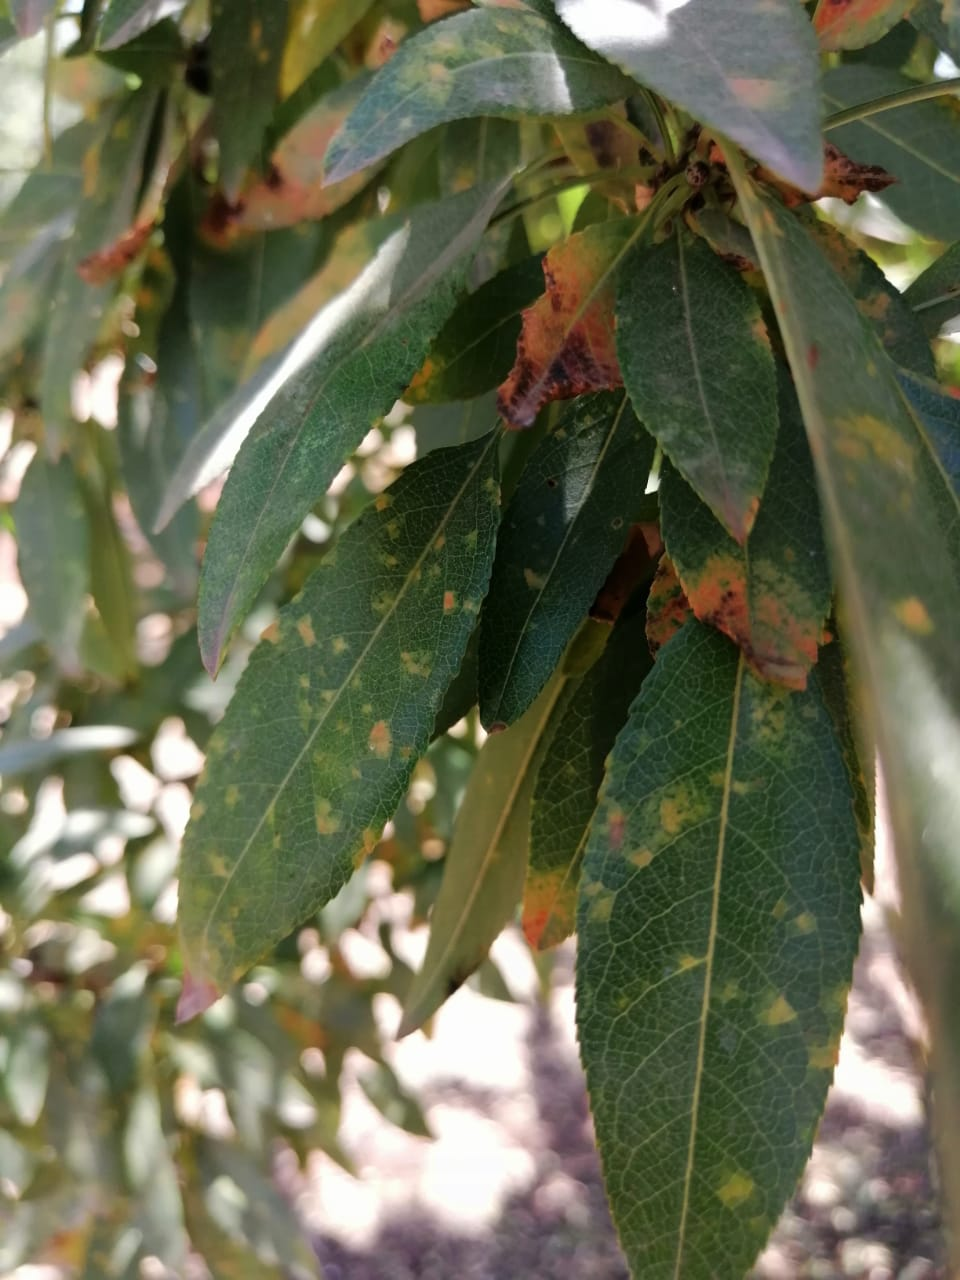polystigma: (168, 433, 502, 1029), (576, 606, 867, 1280), (613, 233, 782, 550), (496, 207, 661, 433)
